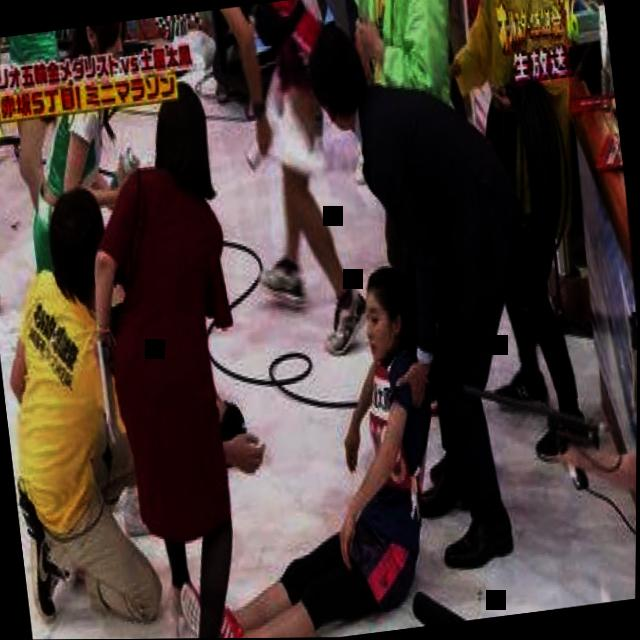Fall-Detected: (128, 231, 466, 639)
